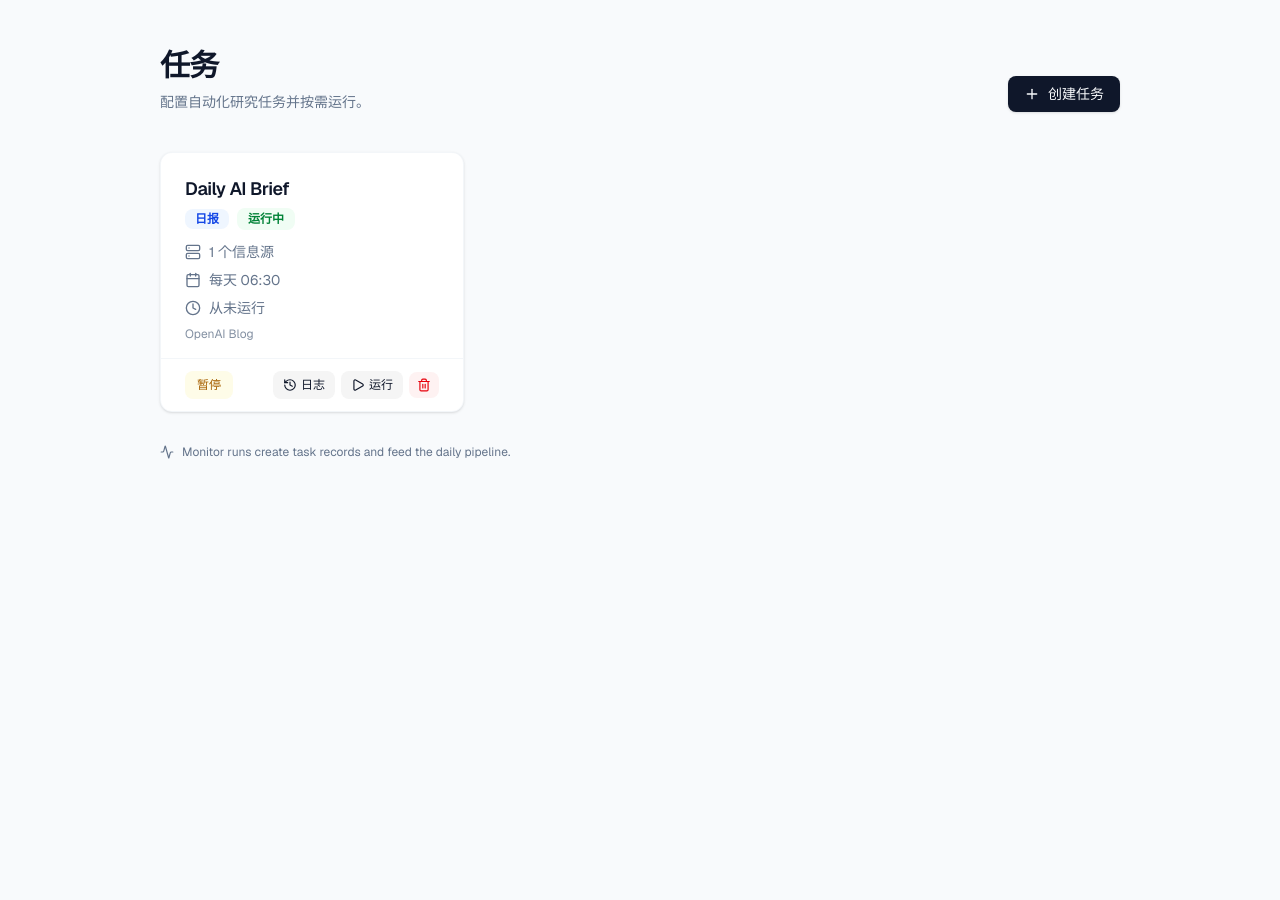
Test: MonitorsPage AI provider flow › loads the simplified ai provider from existing routing when editing
The image size is (1280, 900).
Click the heading "Daily AI Brief": (237, 188) [185,177,289,200]
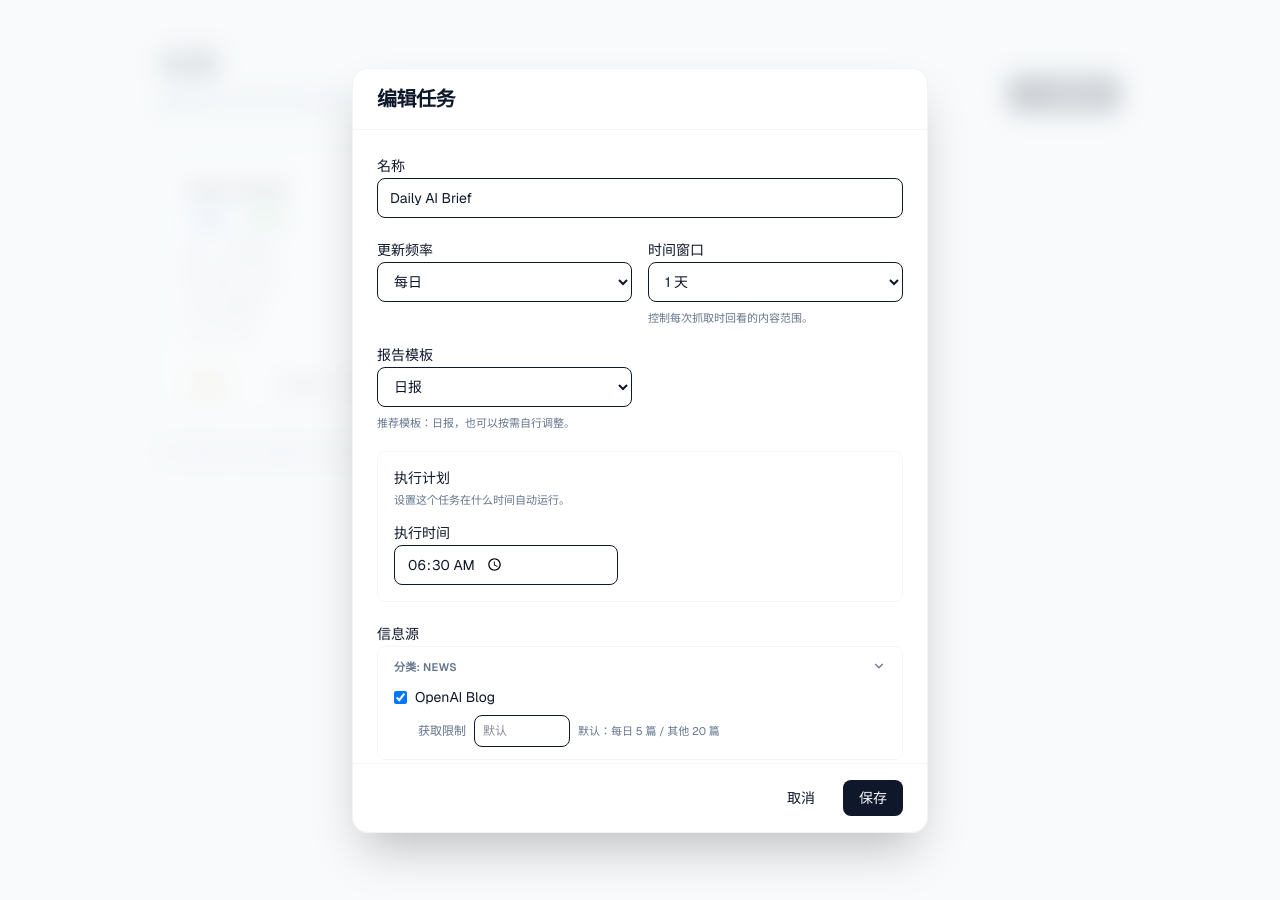
Check: the heading "编辑任务" is shown, box [377,86,455,112]
